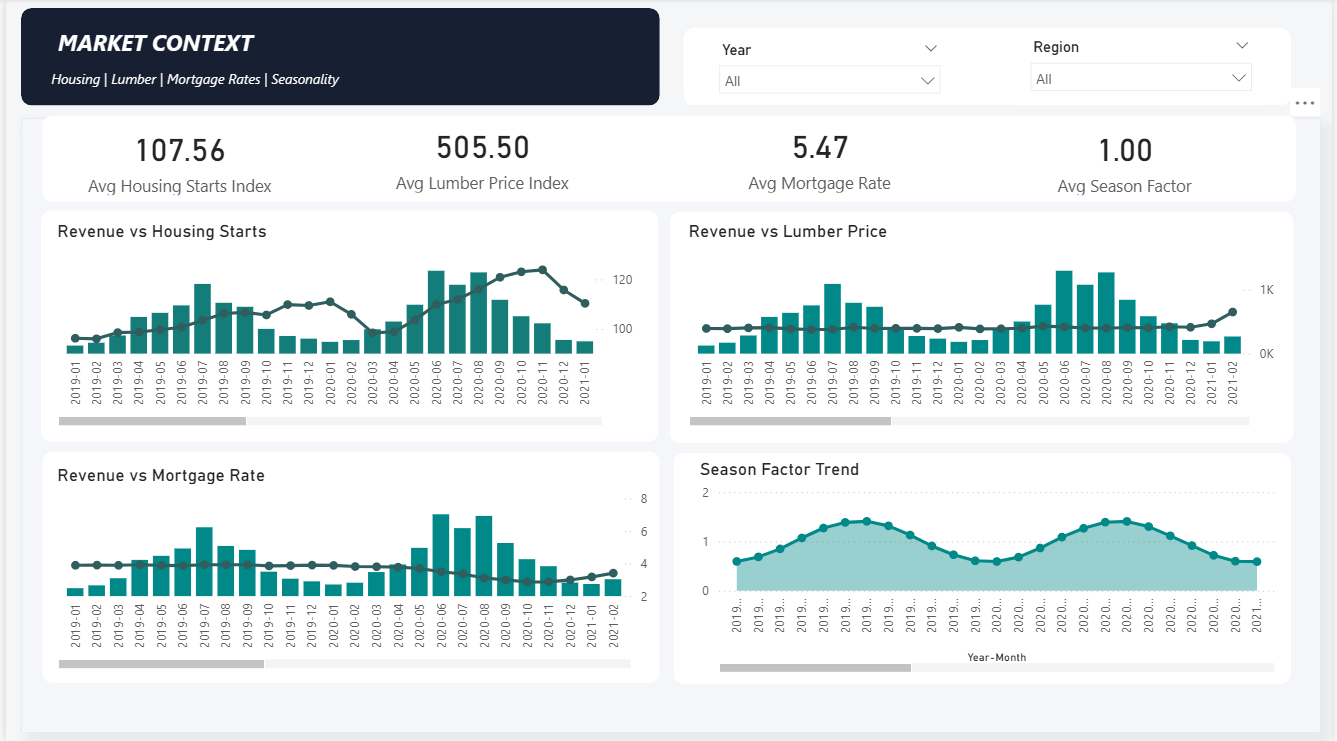

The dashboard page shown, as its layout file describes it:
{"tool":"powerbi","page":{"name":" MARKET CONTEXT","canvas":[1280,720],"ordinal":4},"visuals":[{"type":"shape","box":[14.5,9.7,616.5,94.1],"z":0},{"type":"shape","box":[14.5,115.8,1254.7,593.6],"z":1000},{"type":"shape","box":[640.6,206.3,602,223.2],"z":2000},{"type":"shape","box":[33.8,205.1,596,223.2],"z":3000},{"type":"textbox","box":[38.6,20.5,586.3,76],"z":4000},{"type":"shape","box":[35,113.4,1210.1,83.2],"z":5000},{"type":"card","fields":{"Values":["_Measures.Avg Housing Starts Index"]},"box":[66.4,115.8,202.7,79.6],"z":6000},{"type":"card","fields":{"Values":["_Measures.Avg Lumber Price Index"]},"box":[358.3,113.4,202.7,79.6],"z":7000},{"type":"card","fields":{"Values":["_Measures.Avg Mortgage Rate"]},"box":[684.1,113.4,202.7,79.6],"z":8000},{"type":"card","fields":{"Values":["_Measures.Avg Season Factor"]},"box":[978.4,115.8,202.7,79.6],"z":9000},{"type":"lineClusteredColumnComboChart","title":"Revenue vs Housing Starts","fields":{"Category":["DimDate.Year-Month"],"Y":["_Measures.Total Revenue"],"Y2":["_Measures.Avg Housing Starts Index"]},"box":[44.6,214.7,565.8,202.7],"z":10000},{"type":"lineClusteredColumnComboChart","title":"Revenue vs Lumber Price","fields":{"Category":["DimDate.Year-Month"],"Y":["_Measures.Total Revenue"],"Y2":["_Measures.Avg Lumber Price Index"]},"box":[653.9,214.7,575.5,202.7],"z":11000},{"type":"shape","box":[35,437.9,596,223.2],"z":12000},{"type":"lineClusteredColumnComboChart","title":"Revenue vs Mortgage Rate","fields":{"Category":["DimDate.Year-Month"],"Y":["_Measures.Total Revenue"],"Y2":["_Measures.Avg Mortgage Rate"]},"box":[44.6,450,580.3,201.5],"z":13000},{"type":"shape","box":[644.2,439.1,596,223.2],"z":14000},{"type":"areaChart","title":"Season Factor Trend","fields":{"Category":["DimDate.Year-Month"],"Y":["_Measures.Avg Season Factor"]},"box":[664.7,444,564.6,211.1],"z":15000},{"type":"shape","box":[653.9,29,586.3,74.8],"z":16000},{"type":"slicer","fields":{"Values":["DimDate.Year"]},"box":[678,36.2,234,60.3],"z":17000},{"type":"slicer","fields":{"Values":["DimRegion.Region"]},"box":[978.4,33.8,234,70],"z":18000}]}

Visuals, with their boxes in screenshot pixels (x1, y1, x2, y2), scaled from the page's 1280x720 canvas onto the 1337x741 screenshot:
shape: (15,10,659,107)
shape: (15,119,1326,730)
shape: (669,212,1298,442)
shape: (35,211,658,441)
textbox: (40,21,653,99)
shape: (37,117,1301,202)
card - _Measures.Avg Housing Starts Index: (69,119,281,201)
card - _Measures.Avg Lumber Price Index: (374,117,586,199)
card - _Measures.Avg Mortgage Rate: (715,117,926,199)
card - _Measures.Avg Season Factor: (1022,119,1234,201)
"Revenue vs Housing Starts" lineClusteredColumnComboChart: (47,221,638,430)
"Revenue vs Lumber Price" lineClusteredColumnComboChart: (683,221,1284,430)
shape: (37,451,659,680)
"Revenue vs Mortgage Rate" lineClusteredColumnComboChart: (47,463,653,671)
shape: (673,452,1295,682)
"Season Factor Trend" areaChart: (694,457,1284,674)
shape: (683,30,1295,107)
slicer - DimDate.Year: (708,37,953,99)
slicer - DimRegion.Region: (1022,35,1266,107)
